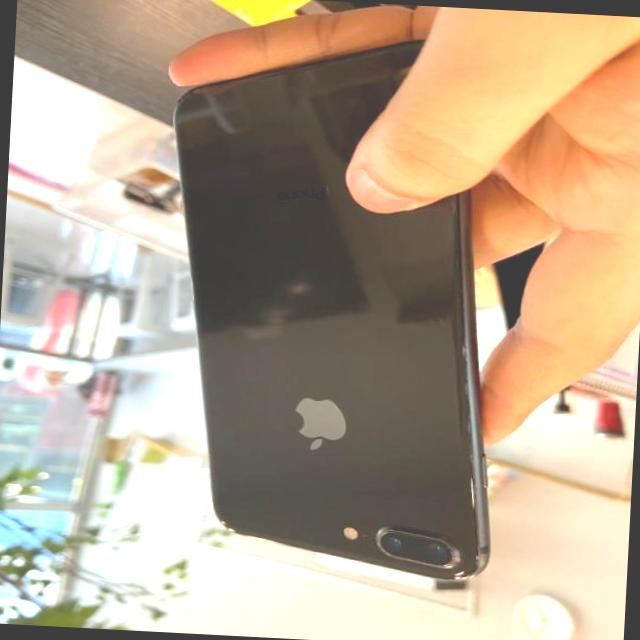lens_back: (418, 528, 454, 566), (380, 522, 410, 556)
phone: (145, 26, 516, 582)
